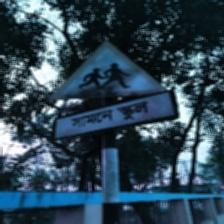School-in-front: (48, 40, 177, 140)
